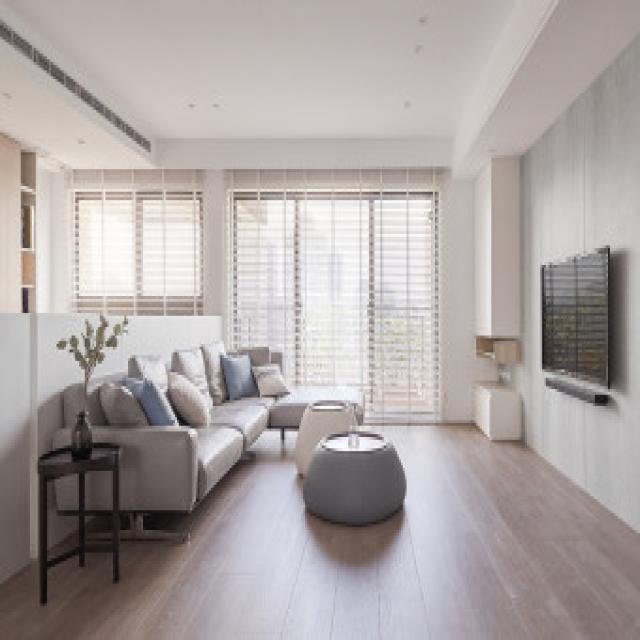Sofa: (50, 344, 342, 536)
Table: (301, 395, 404, 526)
tv: (537, 246, 609, 397)
window: (231, 182, 448, 401), (74, 192, 202, 308)
